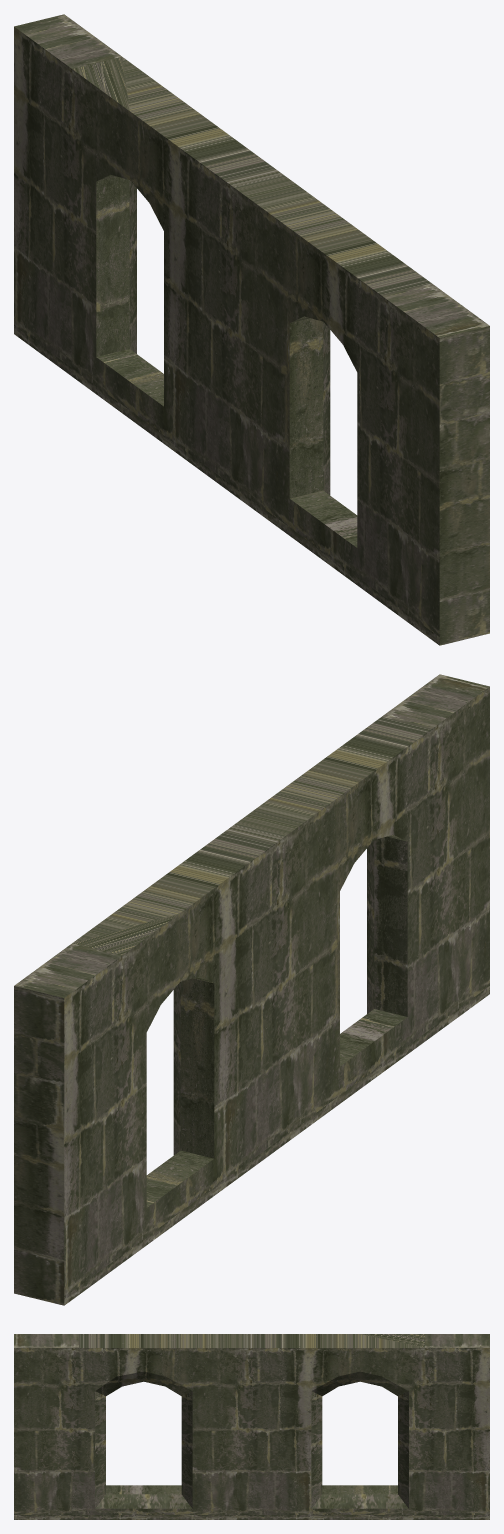
Rendered from HorizontalHalfWall_DualWindow.fbx.
3 views of the same model, one above another, from view 1: azimuth 30°, elevation 25°; view 2: azimuth 150°, elevation 25°; view 3: azimuth 270°, elevation 25° (orthographic). The views are drawn at different scales.
Visible parts, largest first — view 1: HorizontalHalfWall_DualWindow; view 2: HorizontalHalfWall_DualWindow; view 3: HorizontalHalfWall_DualWindow.
Part boxes in pixels (box(x1,y1,x2,y2)): HorizontalHalfWall_DualWindow: box(14, 14, 489, 645); HorizontalHalfWall_DualWindow: box(14, 674, 489, 1305); HorizontalHalfWall_DualWindow: box(14, 1334, 489, 1519).
Size of the model in its own units: 51 by 298 by 748.
